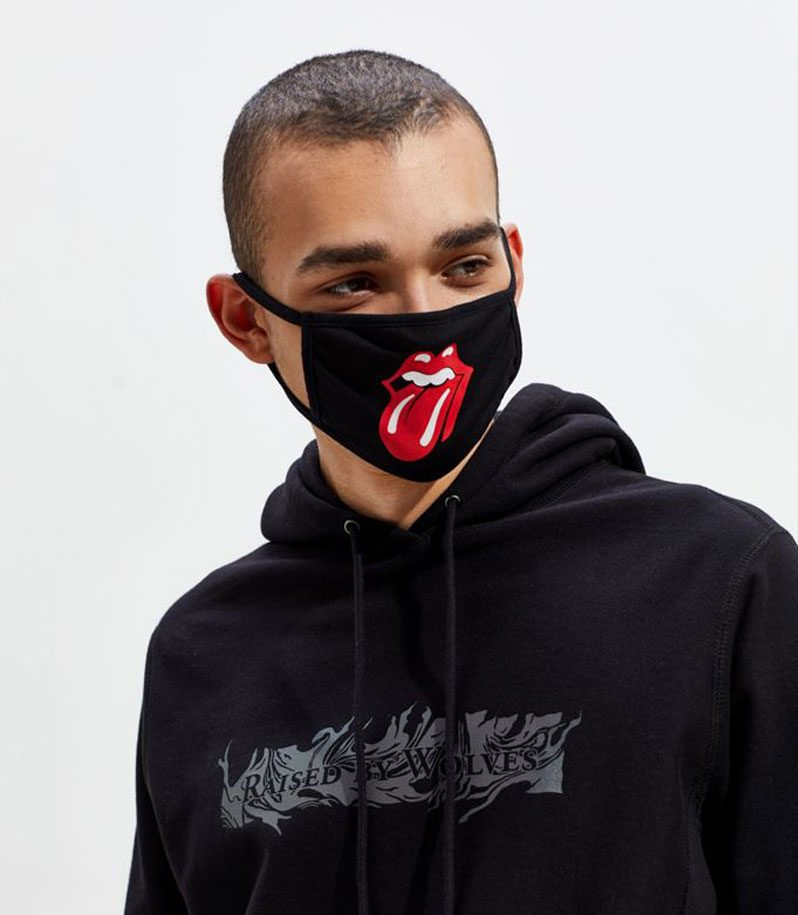with_mask: (180, 57, 557, 513)
